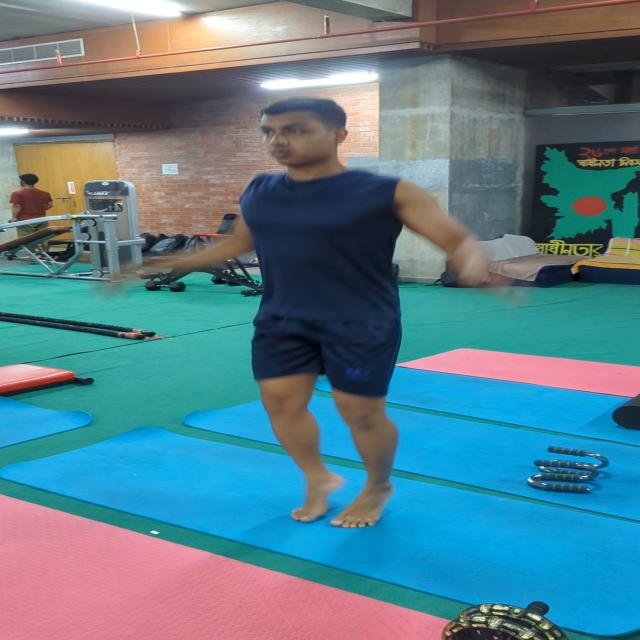Normal_JumpingJacks: (146, 89, 504, 538)
